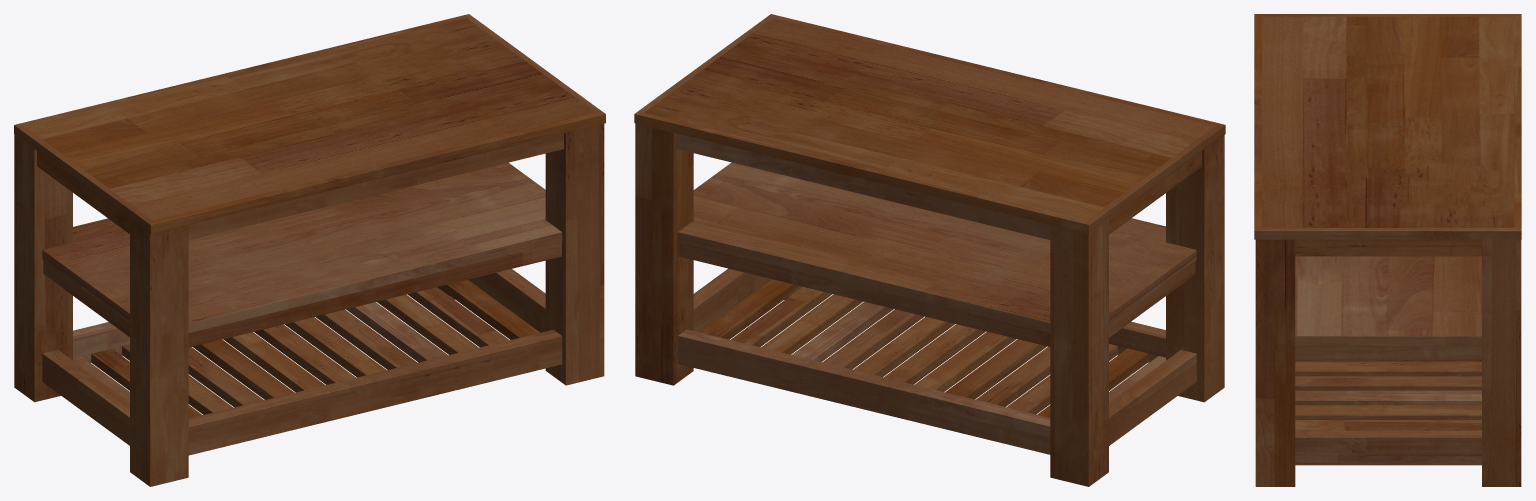
Rendered from table.glb.
3 views of the same model, side by side, from view 1: azimuth 30°, elevation 25°; view 2: azimuth 150°, elevation 25°; view 3: azimuth 270°, elevation 25° (orthographic). The views are drawn at different scales.
Visible parts, largest first — view 1: kitchen_table; view 2: kitchen_table; view 3: kitchen_table.
Boxes of the visible parts, <box> form: kitchen_table: <box>14,14,605,486</box>; kitchen_table: <box>634,14,1225,486</box>; kitchen_table: <box>1254,14,1521,486</box>.
Bounding box in the file's own units: 0.418 × 0.2305 × 0.2177.
2 materials, 2 textured.
